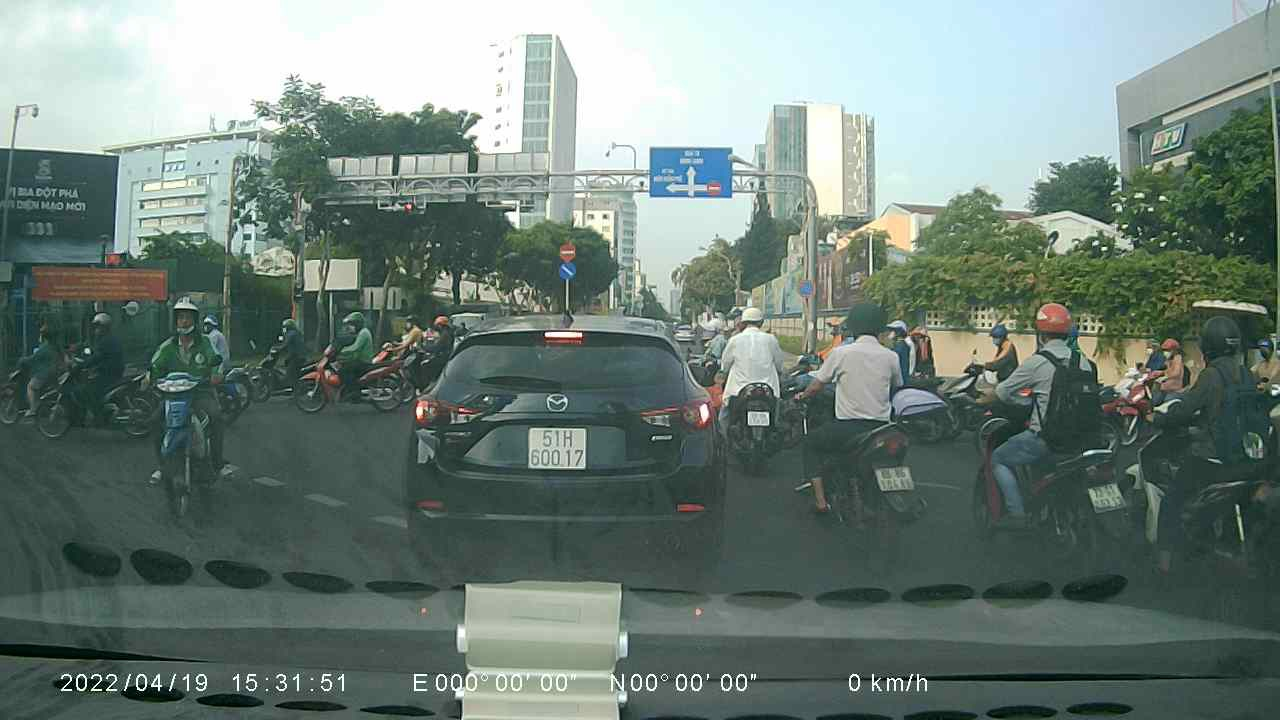Cam di nguoc chieu: (557, 241, 576, 262)
Huong di phai re phai: (557, 262, 576, 280)
